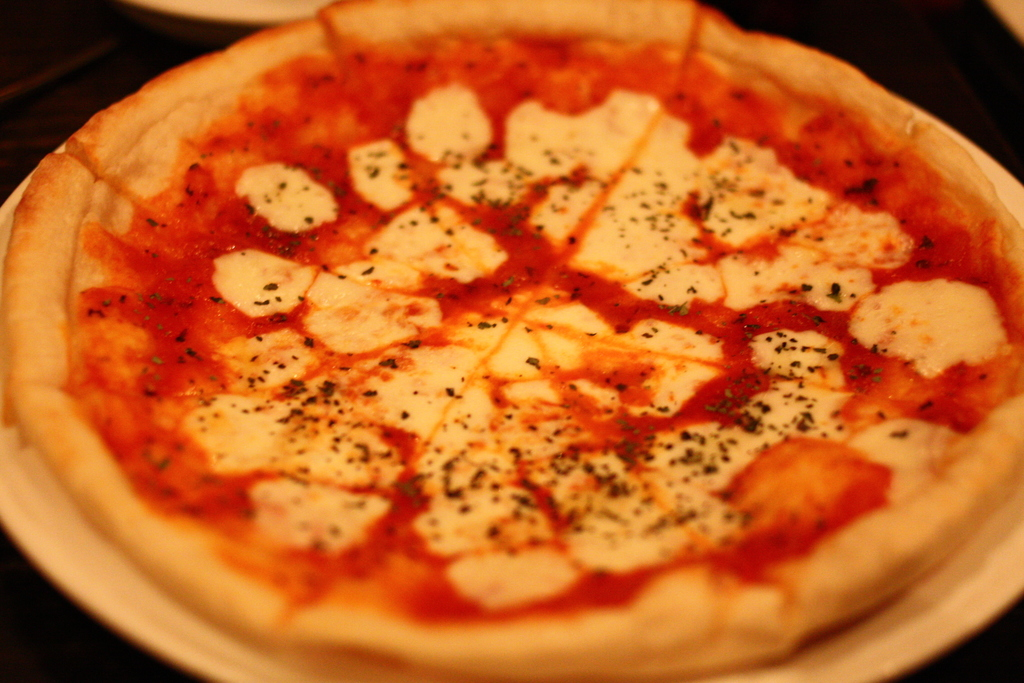Pizza: (0, 0, 1022, 682)
